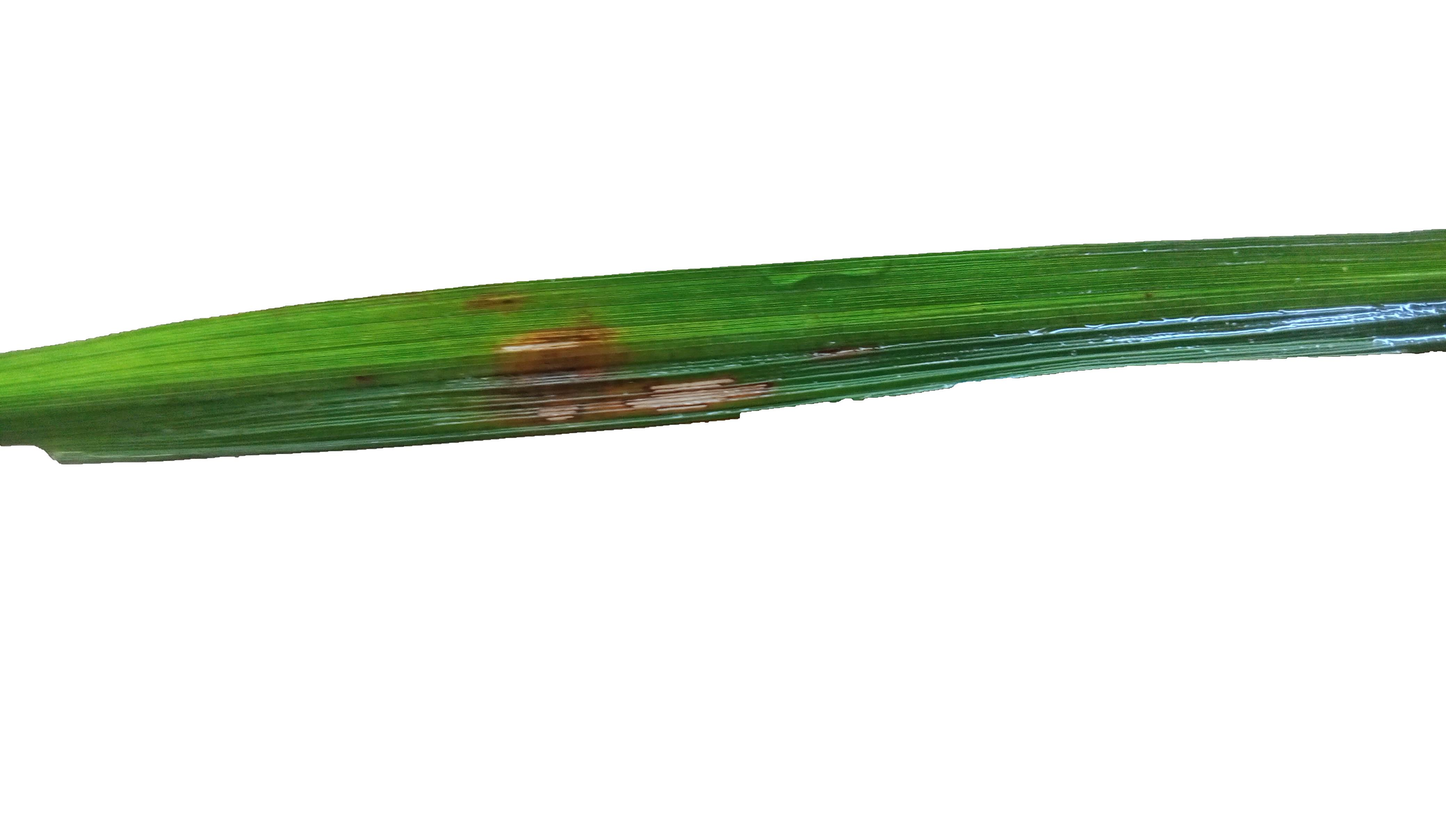Blight: (565, 347, 756, 431), (504, 314, 634, 422), (805, 334, 876, 372), (450, 280, 532, 309)
